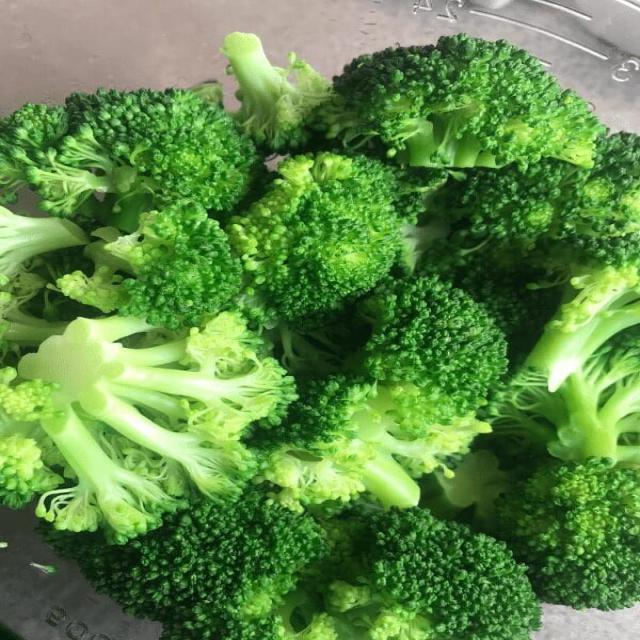broccoli: (19, 312, 294, 542), (261, 277, 505, 507), (488, 268, 639, 609), (45, 490, 327, 639), (318, 34, 604, 167), (26, 88, 260, 231), (259, 376, 489, 509), (228, 152, 399, 322), (326, 508, 540, 639), (438, 133, 639, 253), (56, 201, 242, 328), (496, 458, 639, 610), (359, 275, 506, 419), (488, 332, 639, 464), (222, 32, 330, 152), (0, 208, 88, 354), (0, 368, 62, 508), (0, 104, 67, 203), (0, 208, 88, 277)
